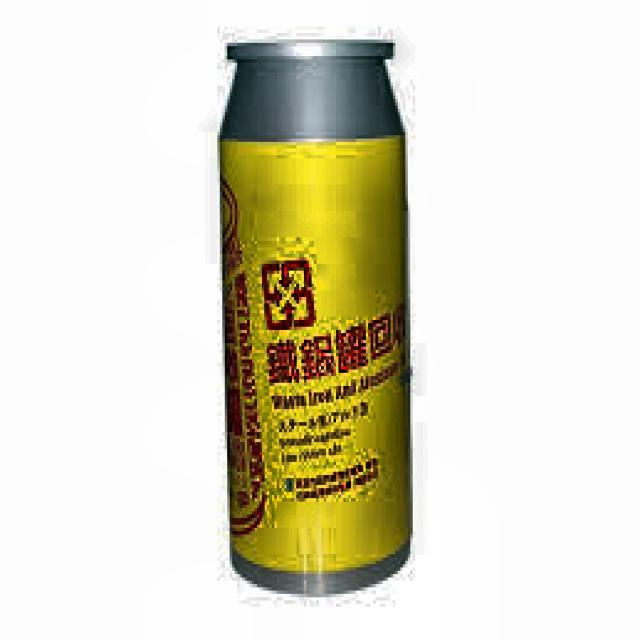can: (209, 33, 422, 609)
